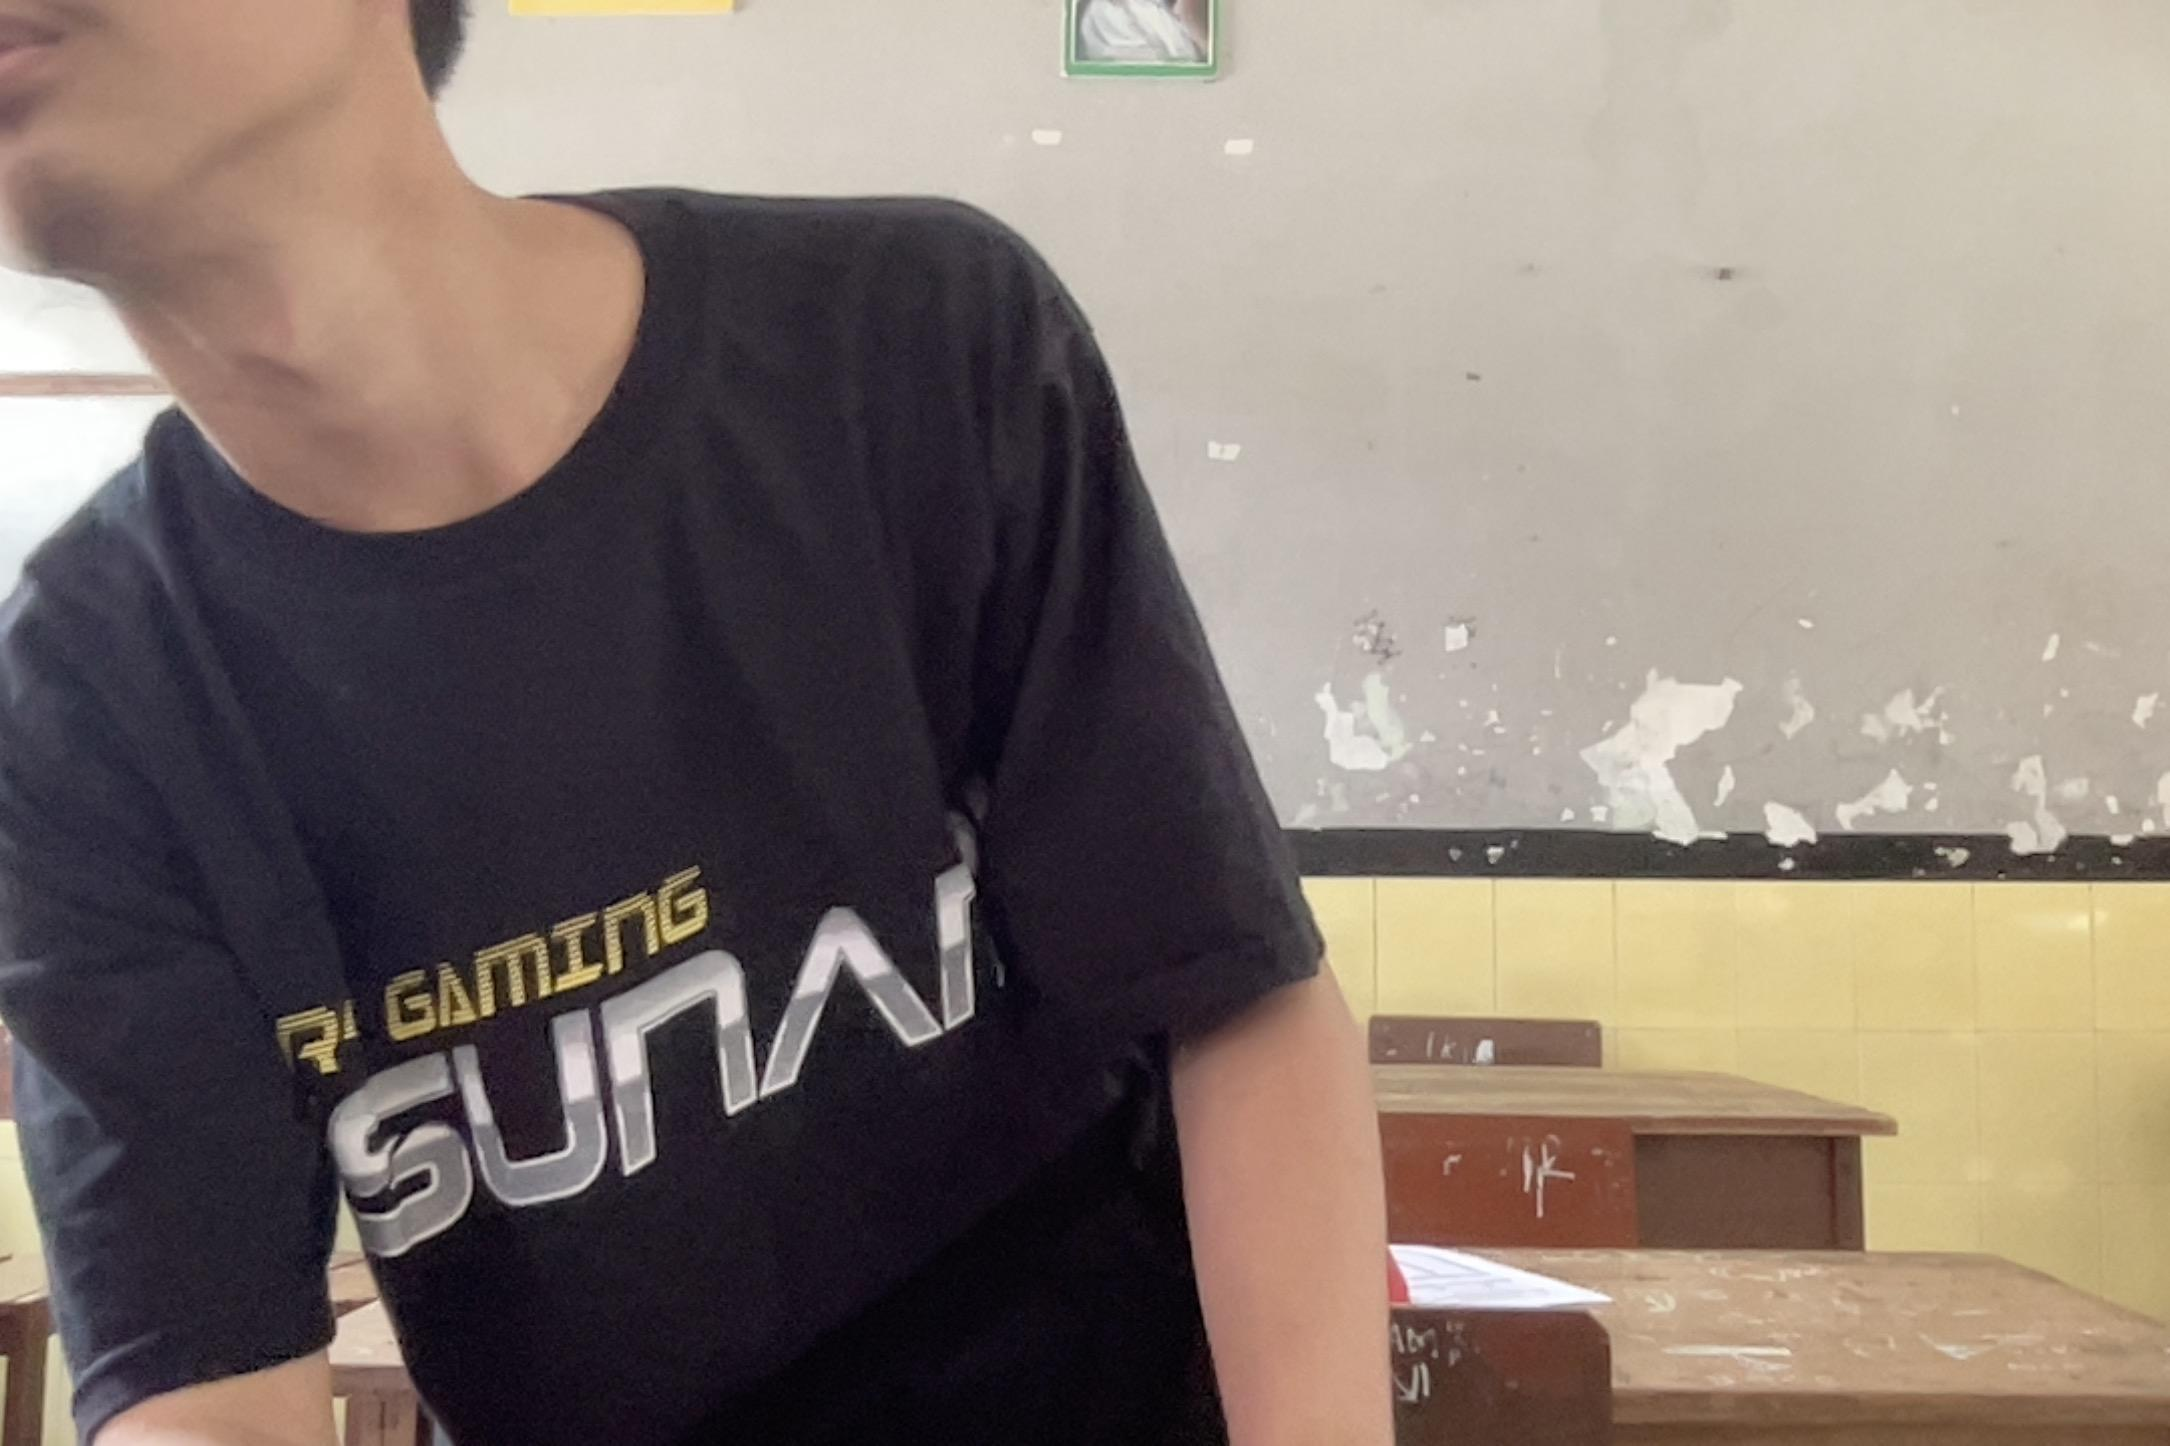cheating: (0, 0, 1467, 1446)
